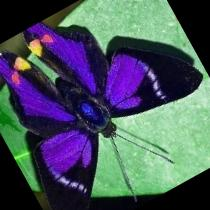butterfly: (0, 21, 202, 210)
